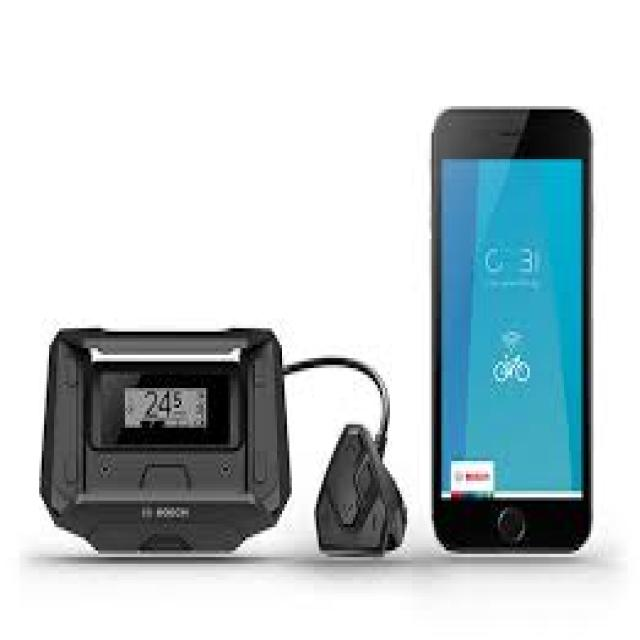phone: (418, 97, 603, 562)
